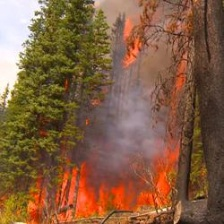fire: (26, 164, 182, 221), (122, 18, 140, 64)
smoke: (89, 107, 156, 151)
